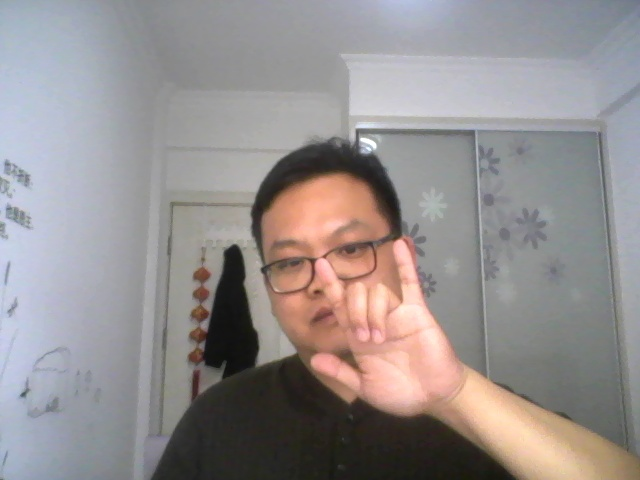I Love You: (304, 238, 477, 423)
